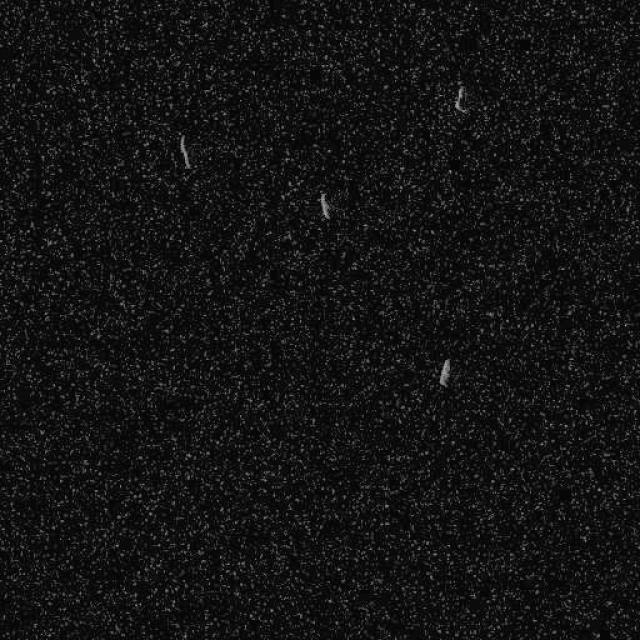D2: (178, 132, 192, 168), (452, 84, 468, 114), (438, 358, 452, 388), (318, 190, 332, 220)
